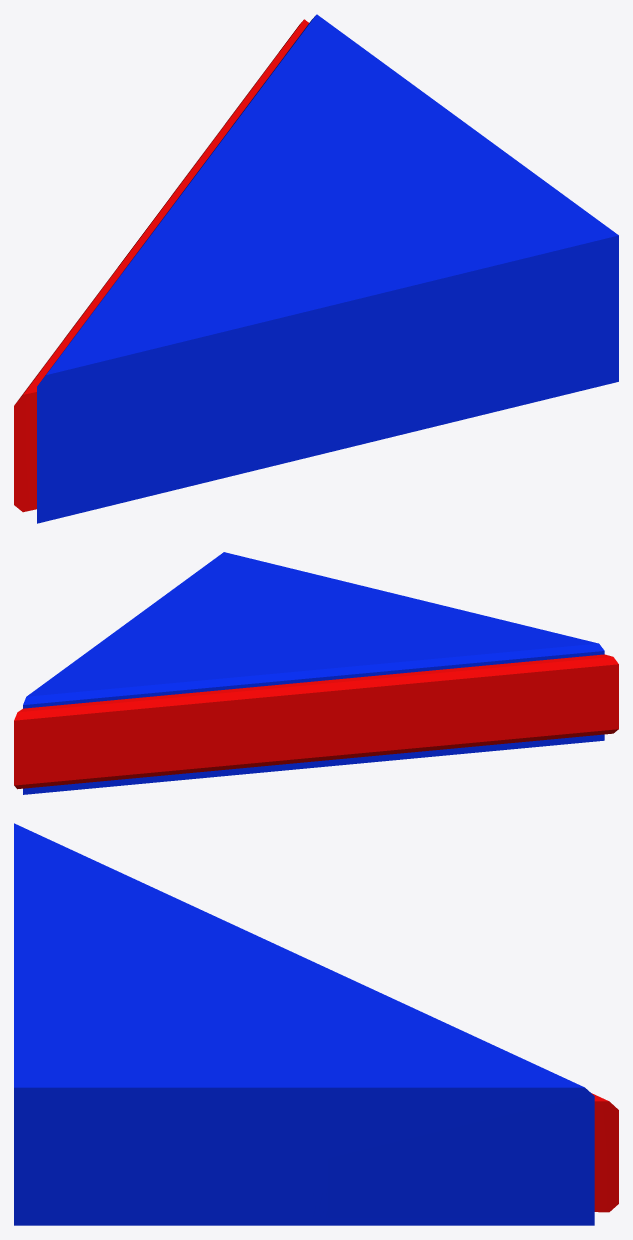
Rendered from Slingshot.fbx.
3 renders of one model, top to bottom at view 1: azimuth 30°, elevation 25°; view 2: azimuth 150°, elevation 25°; view 3: azimuth 270°, elevation 25°, orthographic. The views are drawn at different scales.
Parts seen in each view (by area): view 1: Slingshot; view 2: Slingshot; view 3: Slingshot.
Boxes of the visible parts, x1,y1,x2,y2 form: Slingshot: [14, 14, 618, 523]; Slingshot: [14, 552, 618, 794]; Slingshot: [14, 823, 618, 1225].
Size of the model in its own units: 250 by 57.71 by 229.
